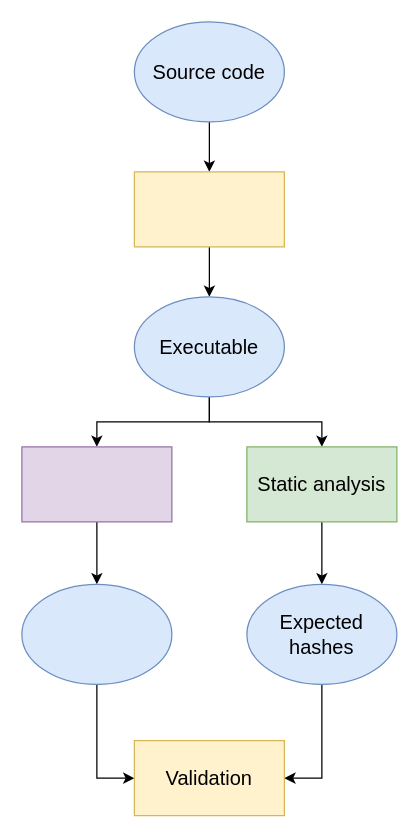
Some shapes in this 419 by 838 pixel diagram are drawn without their labels. The centre of each missing label's shape, as x and y in pixels:
"Compilation" belongs at point (208, 209).
"Runtime hashes" belongs at point (96, 633).
"Simulation" belongs at point (96, 484).
